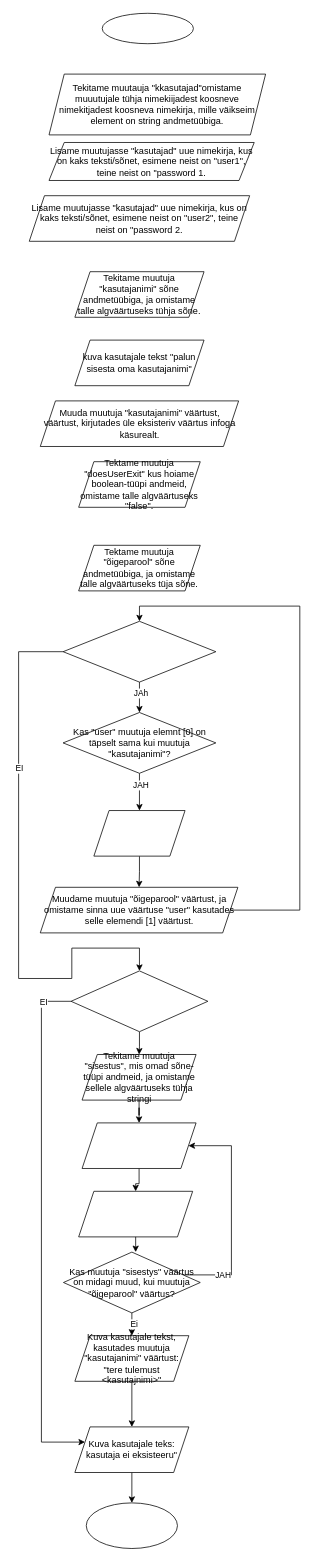
Some shapes in this 319 by 1562 pixel diagram are drawn without their labels. Here are the shapes that lost their labels. From the top down, the box of each, then its label:
(101, 13, 193, 44): Algus
(62, 621, 216, 682): Kas loendis "kasutajaf" on veel elemente, ajutise muutuja nimega "user", alles?
(93, 810, 185, 856): Muudame muutuja "doesUserExit" väärtust, ja omistame sinna uue väärtuse "true".
(70, 970, 208, 1032): Kas muutuja "doesUserExit" omab "true" väärtust?
(81, 1122, 196, 1168): Kuva kasujale tekst "palun sisesta oma parool".
(78, 1191, 193, 1237): muuda muutuja "sisestus" väärtust, omistades sellele käsurea pealt uus väärtus
(86, 1502, 177, 1548): Lõpp
